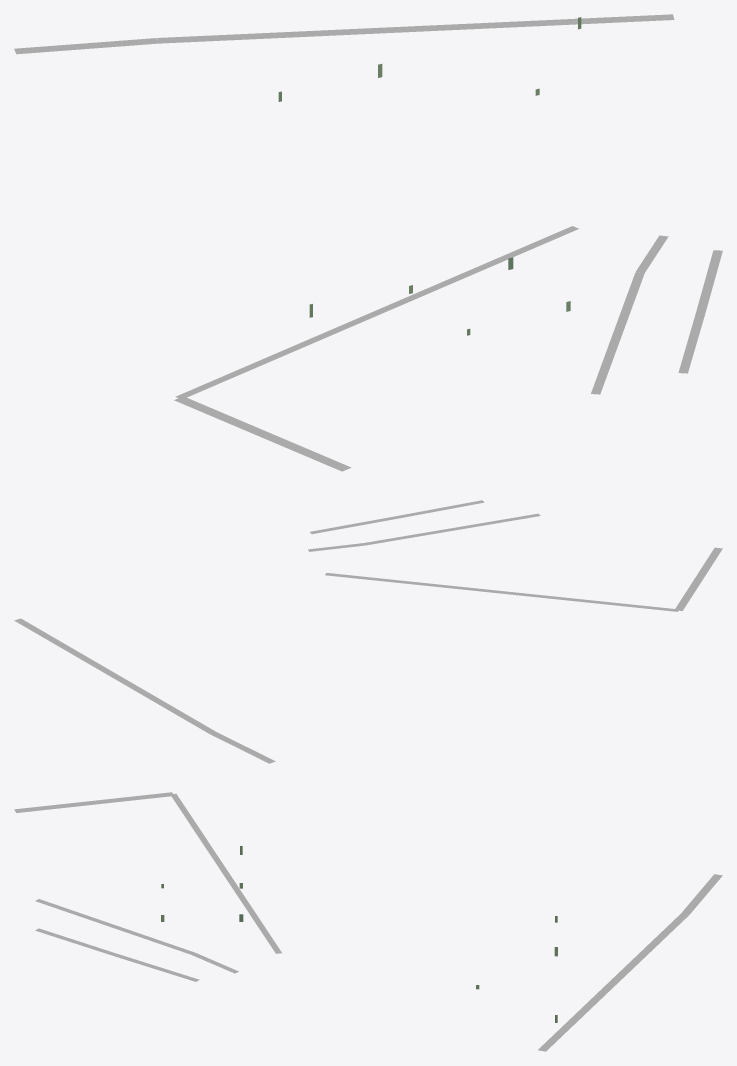
The picture shows the model from 3 angles, top to bottom: view 1: azimuth 30°, elevation 25°; view 2: azimuth 150°, elevation 25°; view 3: azimuth 270°, elevation 25°; orthographic projection. The views are drawn at different scales.
Bounding box in the file's own units: 464 × 9.39 × 540.
